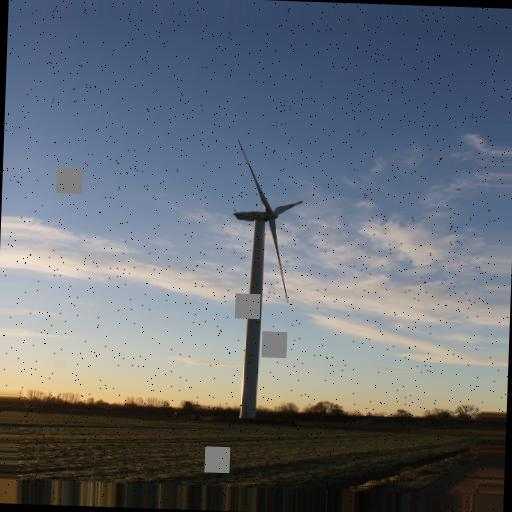wind turbine: (232, 138, 306, 418)
